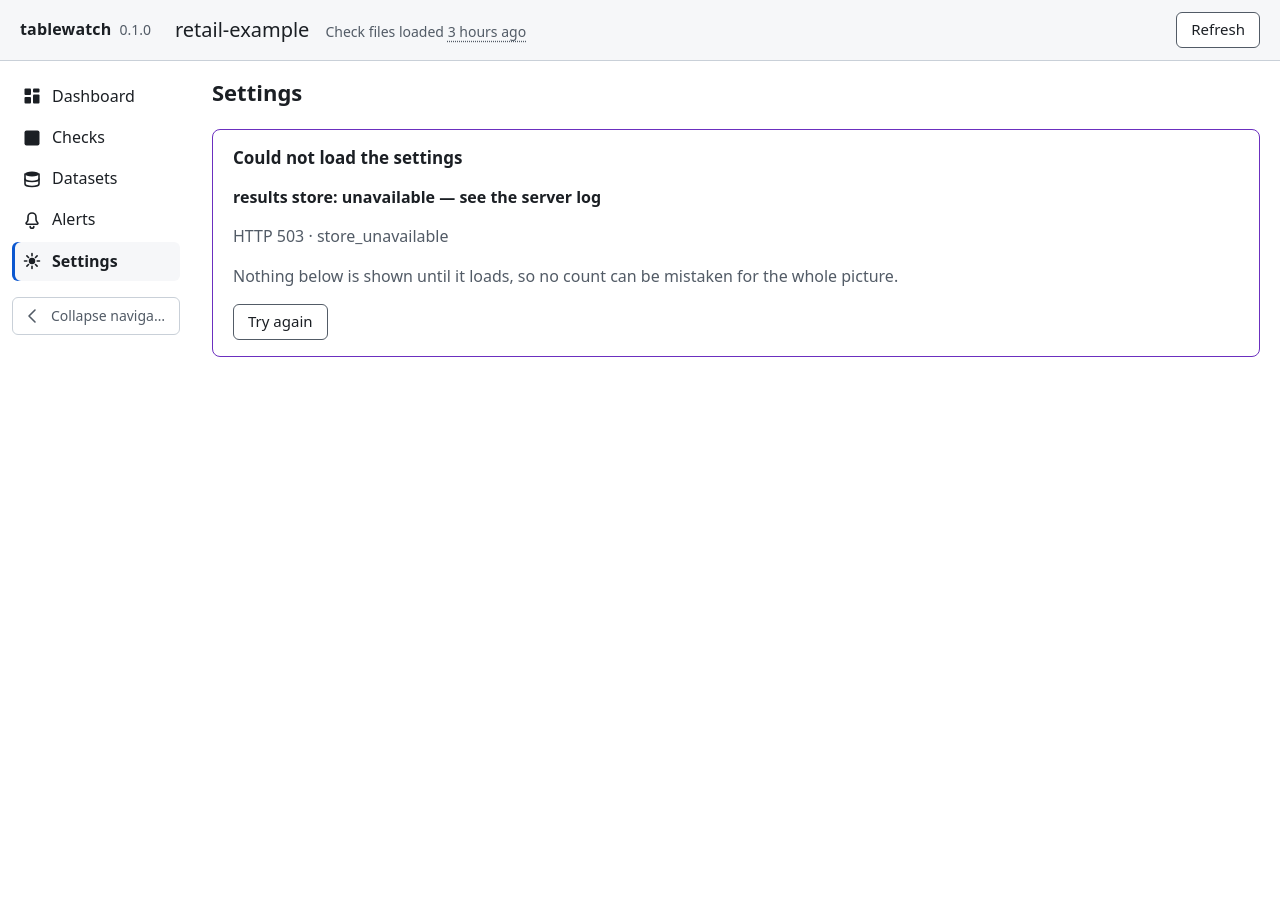
Test: S11: Retry recovers › after a failed load, Try again shows the settings and the nav
Click the button "Try again" at (280, 322), box [233, 304, 328, 340]
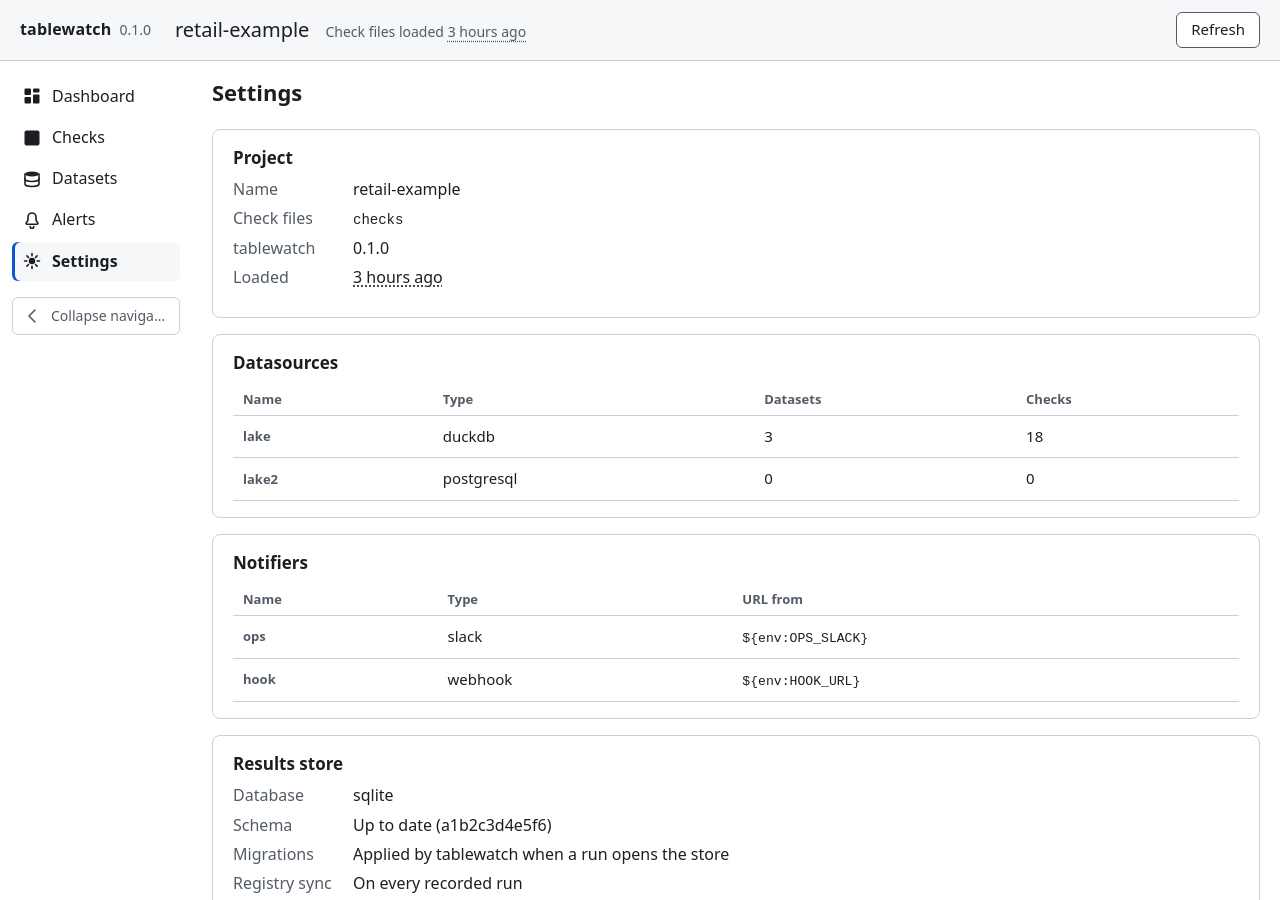
Check: the heading "Project" is shown, box [233, 146, 293, 169]
Check: the message is gone
